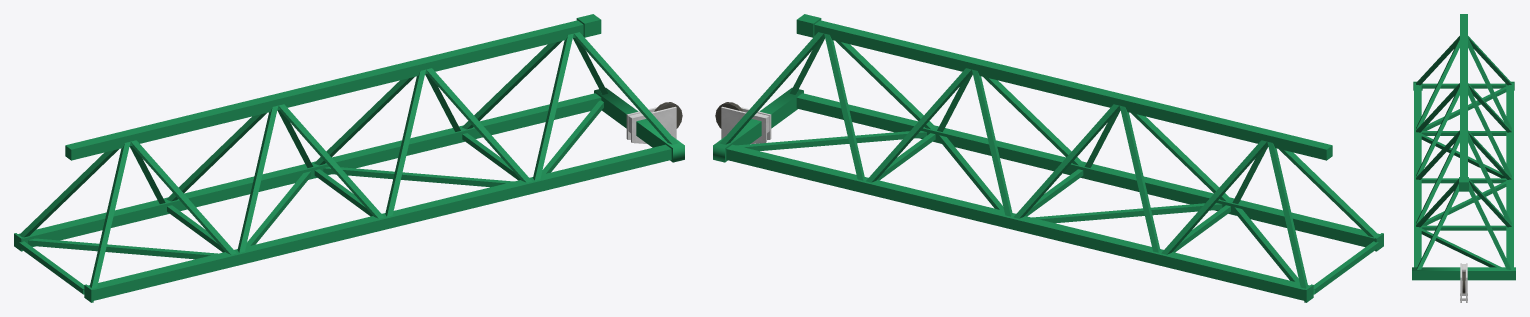
Rendered from towerCrane_jib_end.FBX.
The picture shows the model from 3 angles, left to right: view 1: azimuth 30°, elevation 25°; view 2: azimuth 150°, elevation 25°; view 3: azimuth 270°, elevation 25°; orthographic projection. The views are drawn at different scales.
Parts seen in each view (by area): view 1: towerCrane_jib_end; view 2: towerCrane_jib_end; view 3: towerCrane_jib_end.
Part boxes in pixels (left/top/right/bottom): towerCrane_jib_end: left=14, top=14, right=684, bottom=302; towerCrane_jib_end: left=713, top=14, right=1383, bottom=302; towerCrane_jib_end: left=1412, top=14, right=1515, bottom=302.
Size of the model in its own units: 725 by 161 by 158.
